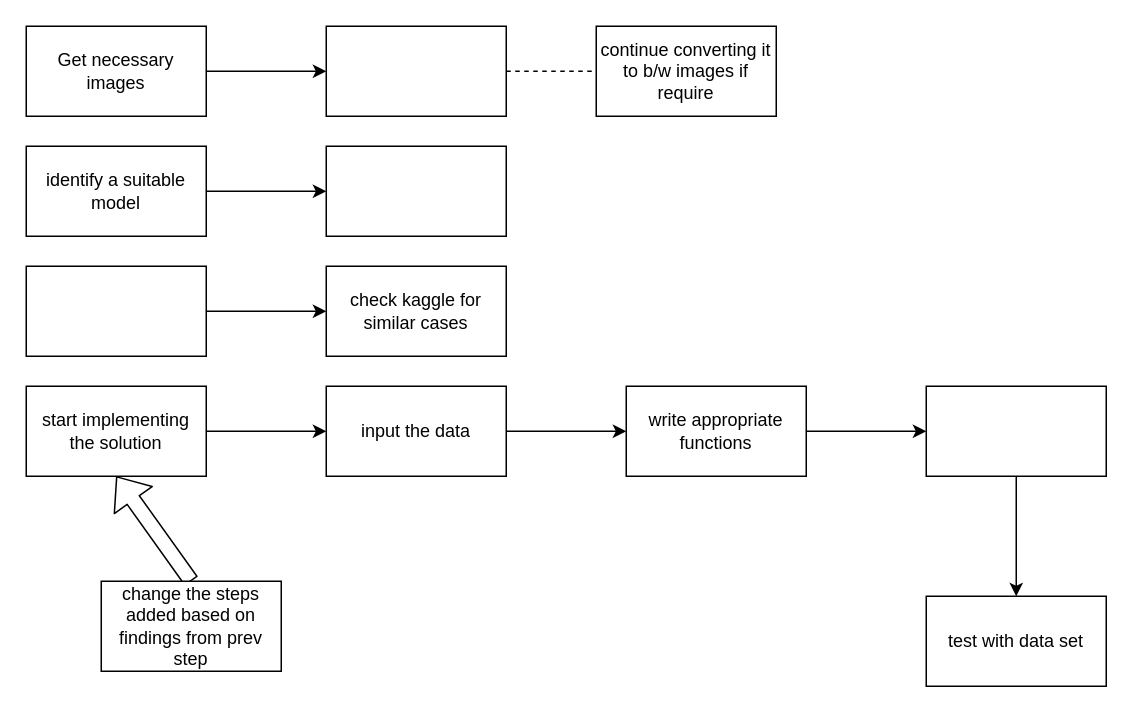
This 1133x713 diagram has some shape labels left out. Each missing label, with the box of its shape:
check ml model that can be used for image processing: (325, 145, 506, 236)
find similar use cases to solve the problem: (25, 265, 206, 356)
get 2 separate set of images - hand loom and power loom: (325, 25, 506, 116)
give training data set: (925, 385, 1106, 476)
